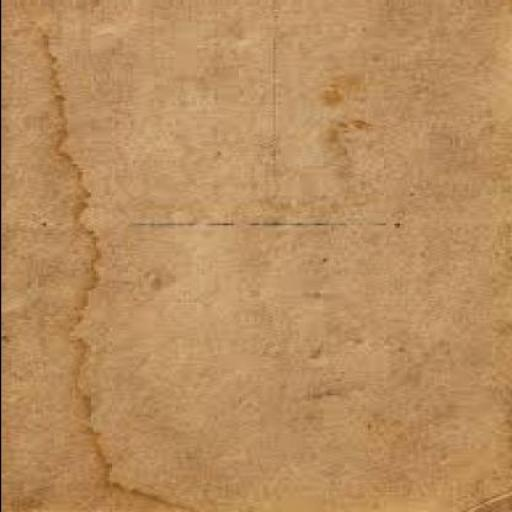cardboard: (0, 1, 511, 512)
